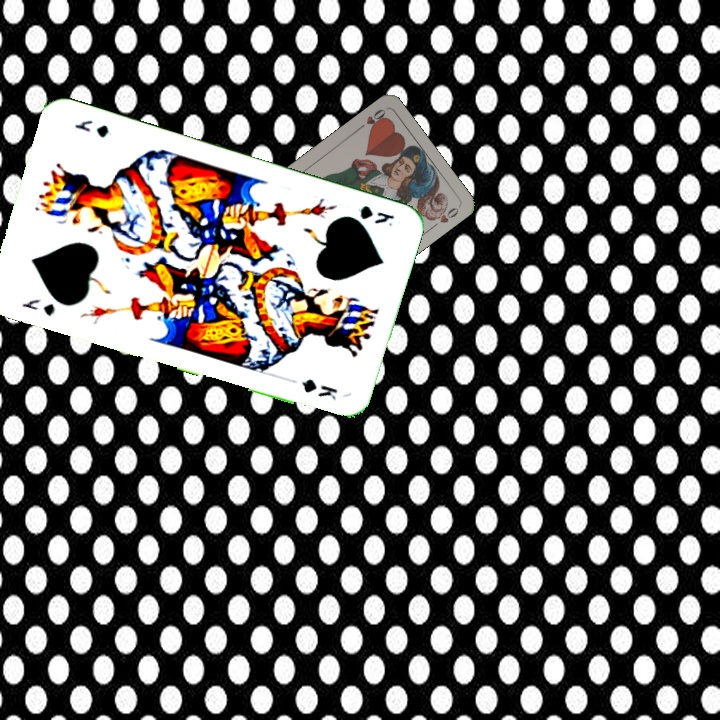GK: (353, 201, 397, 229), (18, 295, 58, 319)
HO: (352, 105, 389, 134)
